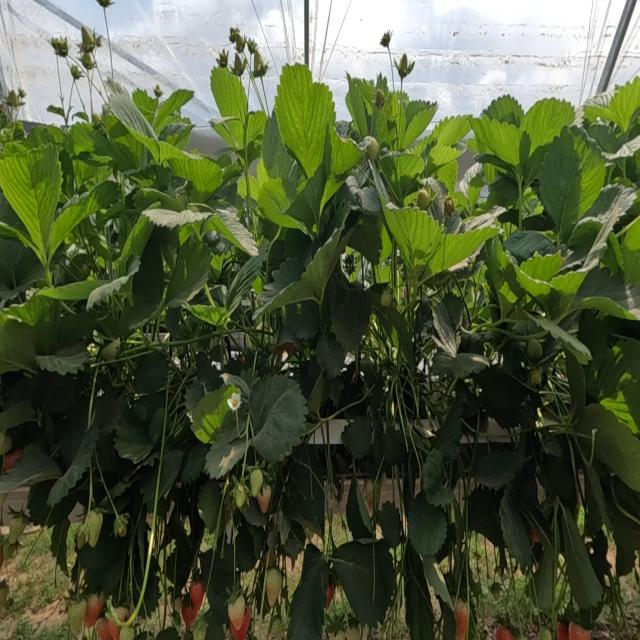Flowers: (228, 391, 239, 411)
Leaves: (539, 126, 606, 240), (0, 146, 63, 256), (274, 66, 335, 179), (573, 404, 639, 491), (331, 539, 396, 626), (578, 186, 636, 273), (250, 375, 307, 461), (282, 446, 325, 558), (55, 400, 119, 473), (118, 233, 163, 335), (432, 299, 489, 377), (591, 340, 640, 430), (29, 482, 78, 570), (559, 505, 601, 607), (78, 516, 129, 594), (288, 544, 329, 639), (384, 207, 443, 273), (50, 426, 99, 505), (255, 162, 305, 234), (287, 149, 330, 232), (262, 109, 299, 196), (298, 231, 345, 299), (166, 236, 211, 307), (476, 366, 527, 428), (568, 267, 631, 317), (159, 143, 221, 193), (108, 80, 157, 143), (473, 433, 530, 487), (186, 384, 237, 444), (530, 315, 591, 364), (521, 98, 575, 152), (49, 197, 96, 258), (320, 363, 370, 420), (35, 308, 98, 353), (0, 446, 60, 493), (405, 542, 434, 639), (439, 225, 496, 271), (469, 116, 519, 168), (227, 244, 267, 309), (511, 480, 551, 545), (408, 490, 447, 555), (500, 488, 531, 568), (331, 289, 371, 351), (259, 258, 304, 312), (205, 421, 246, 479), (208, 210, 258, 255), (380, 152, 423, 204), (201, 551, 232, 622), (114, 405, 153, 461), (25, 298, 64, 354), (210, 68, 247, 127), (468, 486, 503, 546), (434, 392, 465, 459), (93, 130, 141, 172), (541, 454, 576, 510), (399, 100, 438, 150), (33, 372, 77, 414), (433, 294, 463, 355), (1, 320, 35, 373), (347, 213, 382, 264), (380, 306, 412, 360), (119, 215, 155, 263), (36, 342, 87, 375), (155, 89, 194, 132), (609, 76, 639, 131), (98, 475, 140, 514), (424, 451, 453, 506), (346, 479, 372, 539), (503, 231, 554, 261), (331, 128, 361, 178), (86, 276, 131, 309), (134, 351, 167, 395), (585, 462, 608, 525), (141, 208, 210, 229), (520, 251, 564, 283), (187, 156, 223, 195), (421, 555, 450, 603), (285, 302, 318, 343), (36, 280, 99, 301), (621, 216, 640, 285), (316, 334, 345, 378), (159, 446, 184, 497), (341, 417, 371, 459), (346, 79, 367, 139), (198, 480, 222, 532), (484, 96, 523, 127), (431, 116, 470, 147), (139, 559, 160, 616), (303, 360, 325, 414), (461, 206, 506, 232), (181, 443, 209, 484), (360, 358, 382, 410), (184, 304, 229, 329), (51, 517, 70, 575), (73, 160, 108, 191), (0, 401, 36, 431), (135, 188, 184, 210), (236, 521, 257, 571), (92, 398, 122, 433), (154, 228, 179, 269), (379, 501, 401, 547), (196, 354, 222, 391), (460, 174, 483, 215), (450, 353, 489, 377), (604, 135, 640, 161), (69, 123, 98, 155), (384, 427, 408, 465), (488, 174, 519, 203), (133, 89, 158, 124), (140, 466, 159, 511), (132, 543, 146, 604), (351, 187, 381, 215), (429, 142, 459, 167), (116, 260, 140, 291), (245, 109, 266, 144), (221, 373, 249, 398), (244, 498, 267, 525), (148, 407, 165, 443), (88, 235, 112, 260), (524, 212, 555, 231), (221, 162, 242, 187), (373, 420, 384, 466), (152, 165, 171, 191), (329, 376, 343, 408), (218, 183, 237, 206), (104, 201, 126, 219), (210, 284, 227, 306), (248, 174, 260, 201), (238, 177, 246, 197), (350, 181, 354, 193)
Strawberries: (96, 0, 114, 77), (0, 511, 27, 558), (80, 510, 103, 547), (395, 53, 415, 92), (228, 595, 247, 636), (362, 479, 382, 516), (107, 607, 129, 639), (188, 581, 203, 627), (85, 593, 105, 627), (68, 599, 86, 634), (264, 569, 281, 605), (80, 26, 99, 57), (454, 599, 468, 639), (9, 516, 27, 545), (4, 448, 23, 471), (100, 340, 120, 360), (361, 137, 379, 159), (276, 341, 295, 361), (250, 469, 263, 495), (230, 32, 246, 53), (51, 38, 68, 57), (233, 53, 247, 76), (527, 340, 542, 361), (258, 486, 270, 512), (342, 253, 355, 277), (251, 49, 262, 77), (234, 484, 246, 508), (417, 190, 431, 210), (114, 514, 127, 535), (7, 89, 22, 107), (380, 30, 391, 52), (216, 49, 228, 68), (346, 624, 361, 639), (0, 583, 9, 608), (496, 626, 513, 639), (1, 433, 11, 455), (557, 621, 569, 639), (380, 289, 392, 307), (119, 626, 135, 639), (82, 52, 94, 69), (444, 197, 455, 215), (375, 89, 385, 108), (326, 584, 334, 606), (229, 27, 239, 43), (530, 370, 541, 384), (92, 112, 103, 126), (530, 529, 540, 543), (174, 597, 182, 614), (381, 466, 386, 493), (540, 628, 551, 639), (154, 85, 163, 98)
